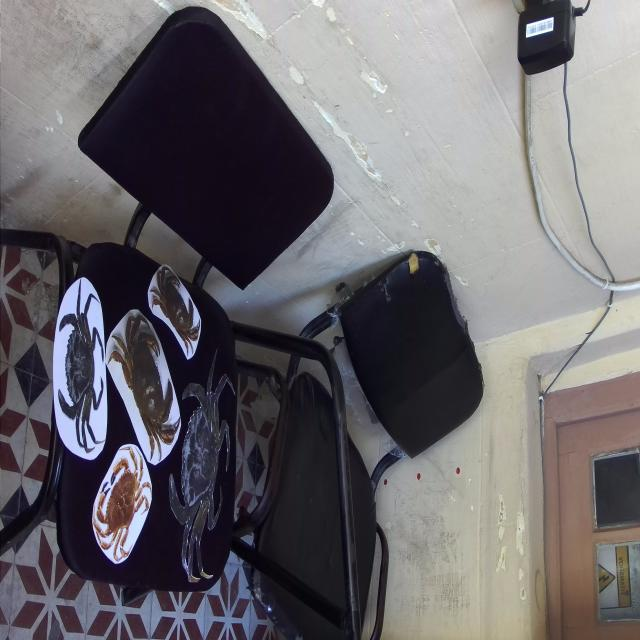European_Green_Crab: (157, 336, 244, 592), (56, 276, 106, 456)
